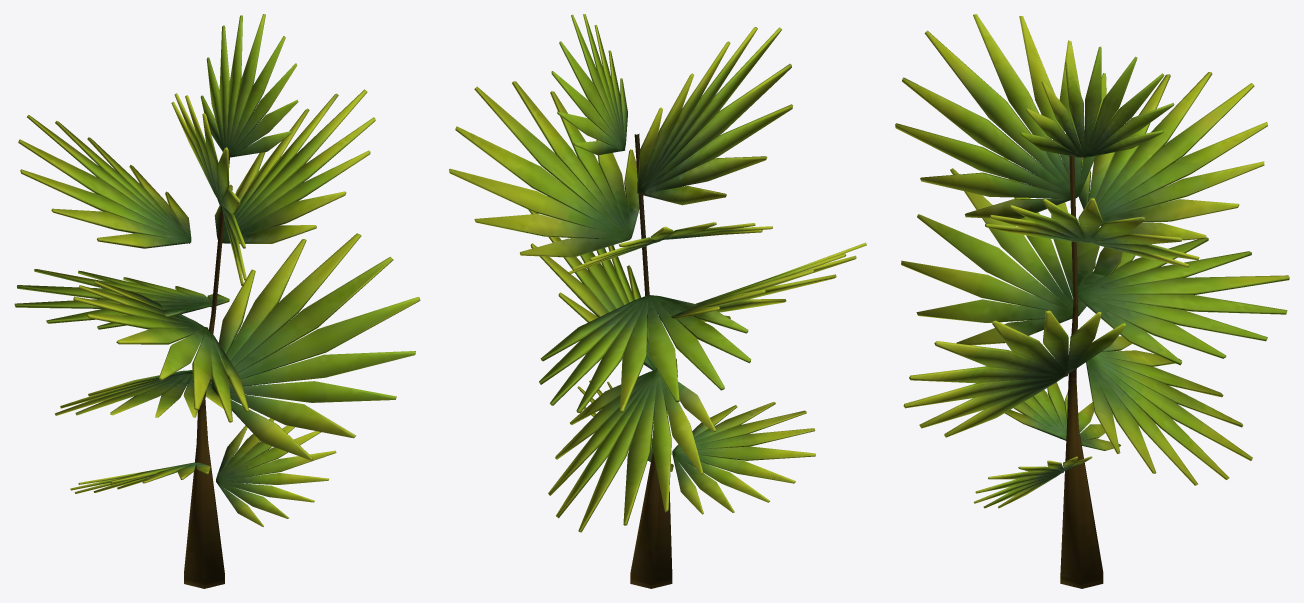
The model's file is tree.gltf.
The picture shows the model from 3 angles, left to right: view 1: azimuth 30°, elevation 25°; view 2: azimuth 150°, elevation 25°; view 3: azimuth 270°, elevation 25°; orthographic projection. The views are drawn at different scales.
Visible parts, largest first — view 1: UmbrellaPalmTree_mesh; view 2: UmbrellaPalmTree_mesh; view 3: UmbrellaPalmTree_mesh.
Boxes of the visible parts, x1=… form: UmbrellaPalmTree_mesh: x1=14, y1=14, x2=420, y2=588; UmbrellaPalmTree_mesh: x1=449, y1=14, x2=866, y2=588; UmbrellaPalmTree_mesh: x1=895, y1=14, x2=1289, y2=588.
Size of the model in its own units: 5.86 by 9.46 by 5.97.
Materials: 1 (1 with a texture image).
